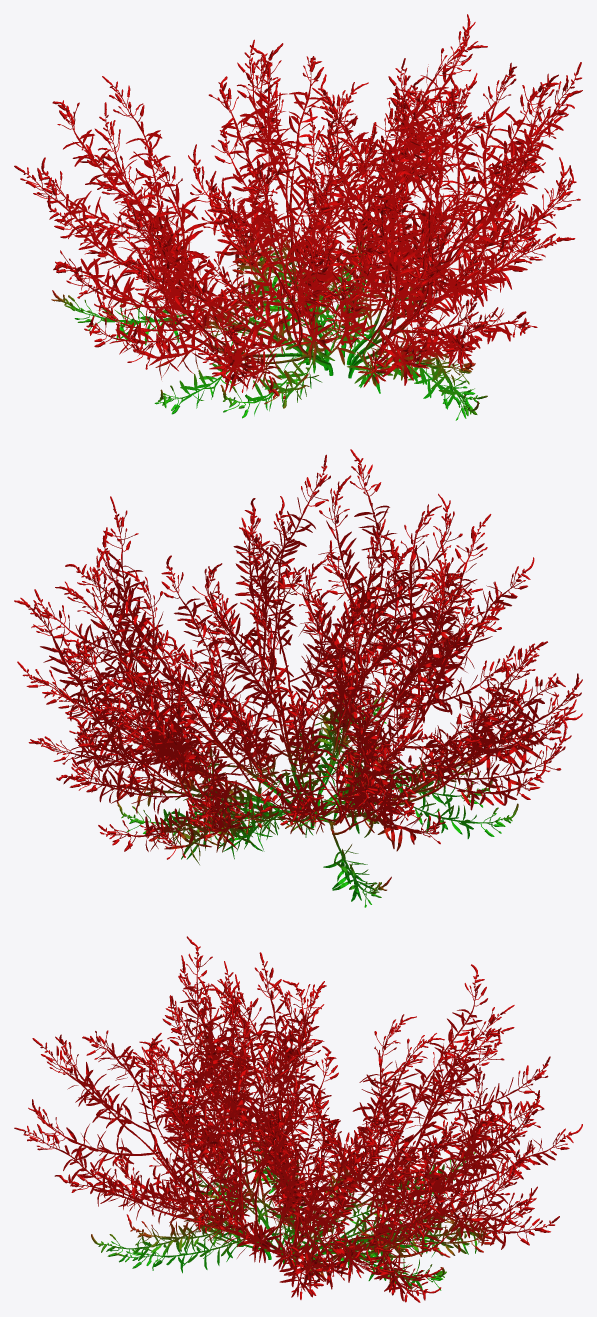
Rendered from Desert Cotton_LOD0_Var4_xeogciyqx.fbx.
3 renders of one model, top to bottom at view 1: azimuth 30°, elevation 25°; view 2: azimuth 150°, elevation 25°; view 3: azimuth 270°, elevation 25°, orthographic. The views are drawn at different scales.
Parts seen in each view (by area): view 1: _jvbp_Var4_LOD0; view 2: _jvbp_Var4_LOD0; view 3: _jvbp_Var4_LOD0.
Boxes of the visible parts, bbox=[...] form: _jvbp_Var4_LOD0: bbox=[14, 14, 582, 420]; _jvbp_Var4_LOD0: bbox=[14, 449, 582, 907]; _jvbp_Var4_LOD0: bbox=[14, 936, 582, 1302].
Size of the model in its own units: 88.99 by 49.7 by 89.69.
